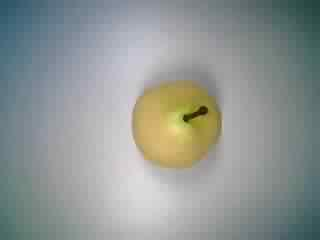pear: (122, 72, 232, 178)
